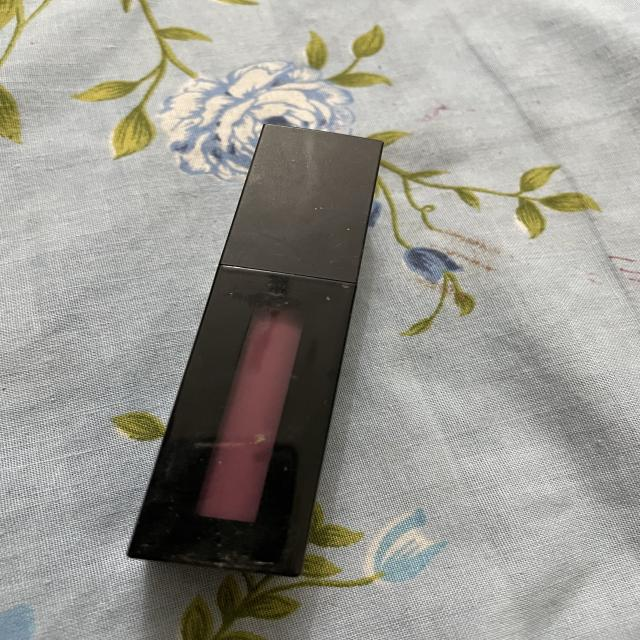lip gloss: (78, 109, 399, 586)
